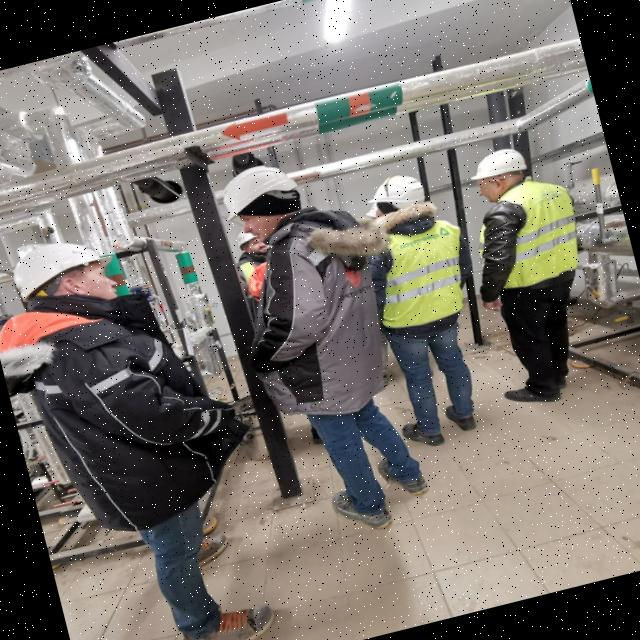Helmet: (7, 231, 118, 300), (212, 159, 304, 227), (364, 169, 434, 216), (465, 145, 529, 187), (234, 234, 259, 255)
Jacket: (367, 203, 473, 338), (475, 172, 584, 299)
NoJacket: (9, 277, 199, 541), (241, 204, 392, 421)
